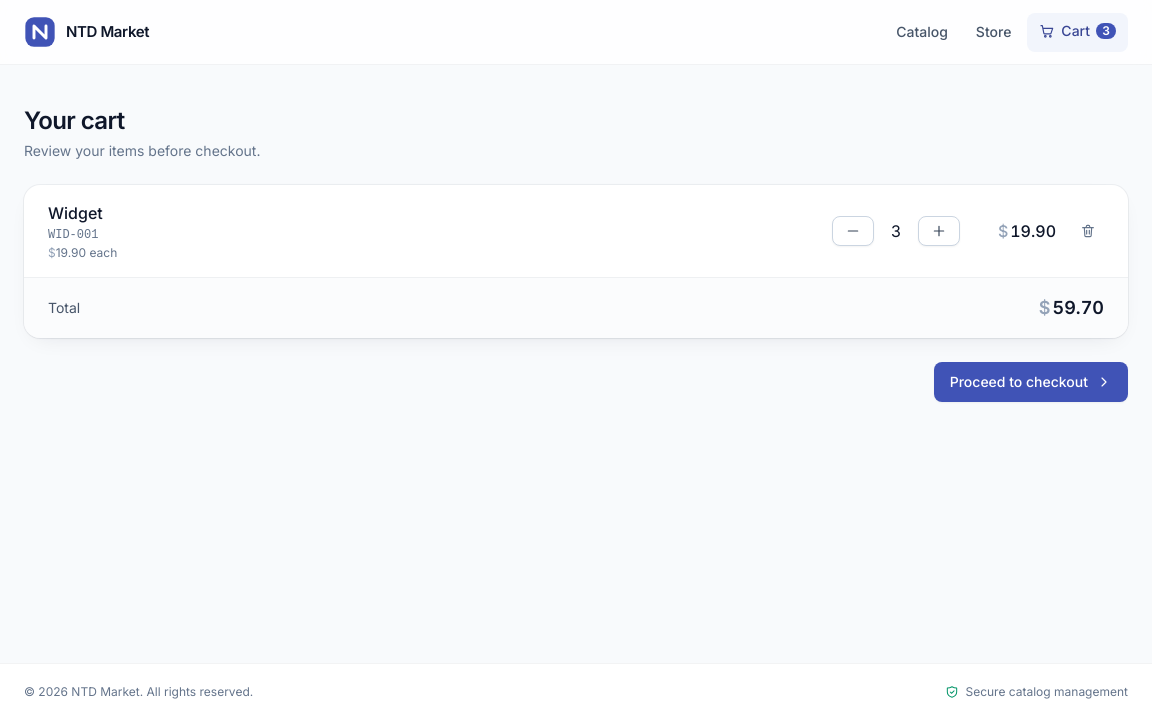
Scenario: CartPage › shows insufficient_stock inline and keeps the quantity unchanged
Expected: the text "Widget" is shown, top-left (48, 203), bottom-right (103, 223)
Click the button named "Increase quantity". click: (939, 231)
box: top-left (918, 216), bottom-right (960, 246)
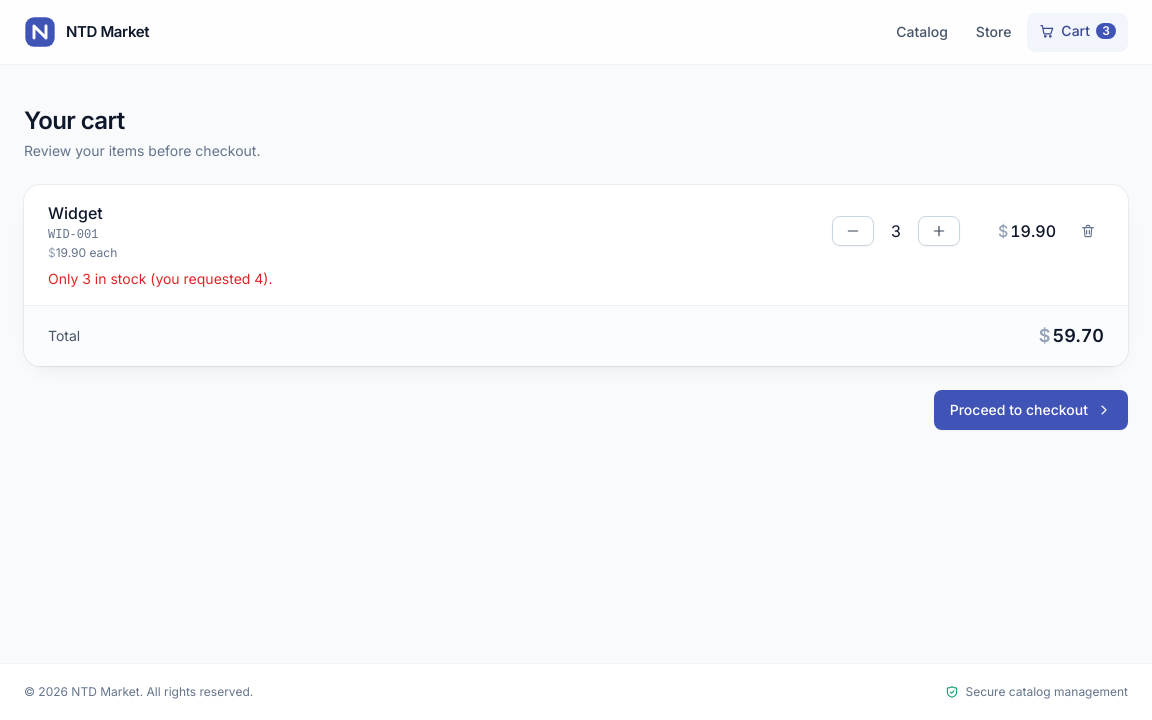
Expected: the text named "Quantity for Widget" reads "3", top-left (891, 221), bottom-right (901, 241)
Now the text "Only 3 in stock (you requested 4)." is shown, box top-left (48, 270), bottom-right (272, 287)
